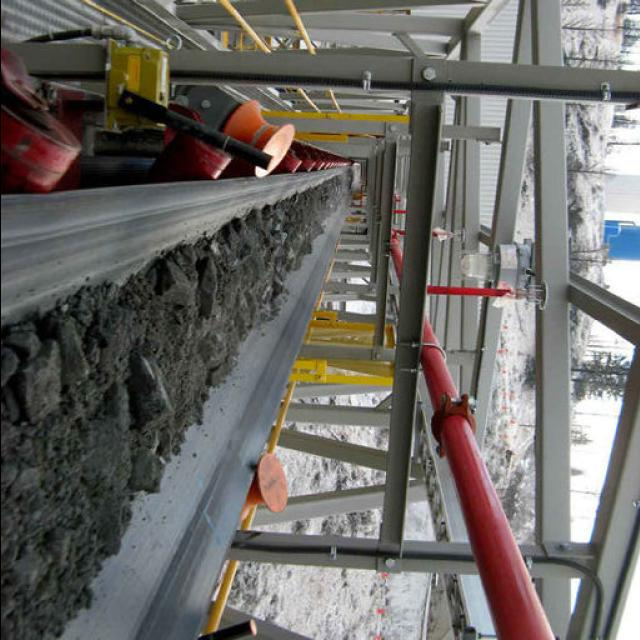conveyor: (0, 157, 356, 640)
